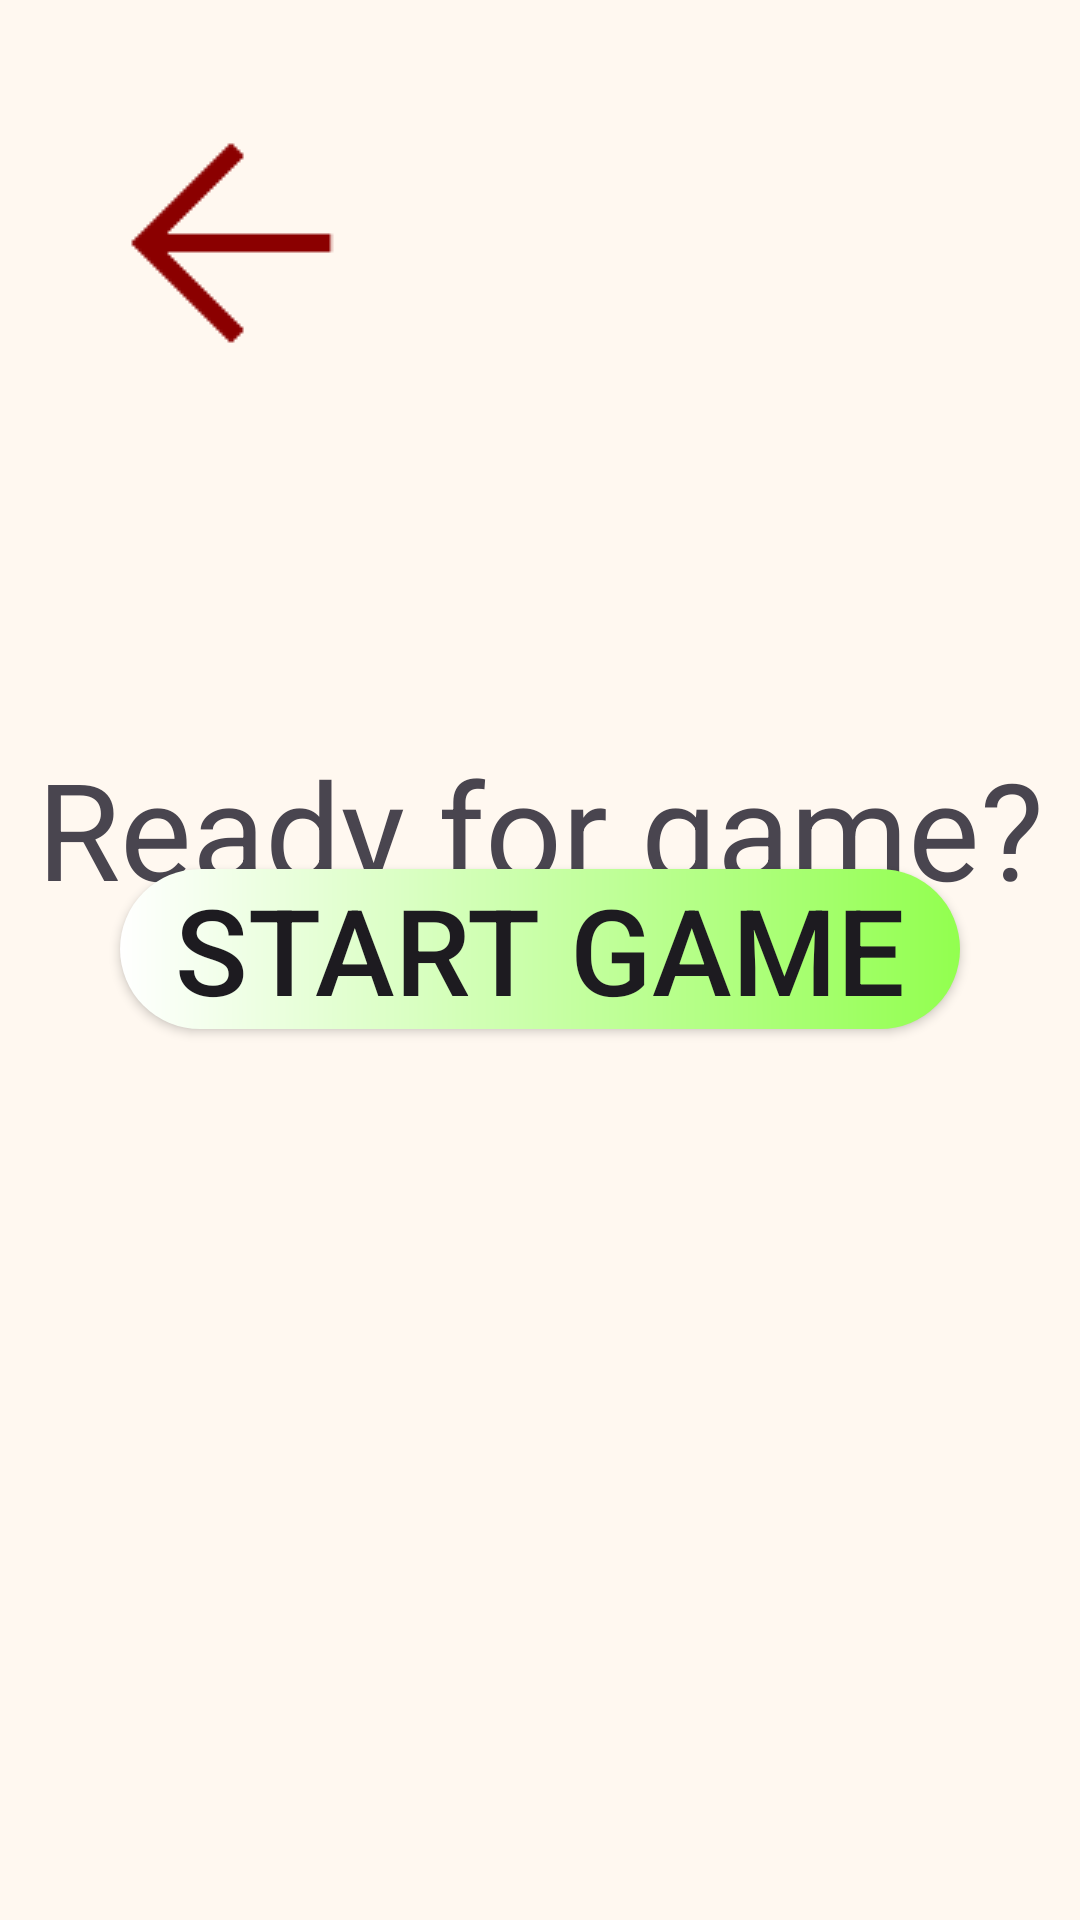

Where icons sit on this 1080x1920 app screen, as (x1, y1, x2, y2):
arrowback: (131, 143, 333, 343)
